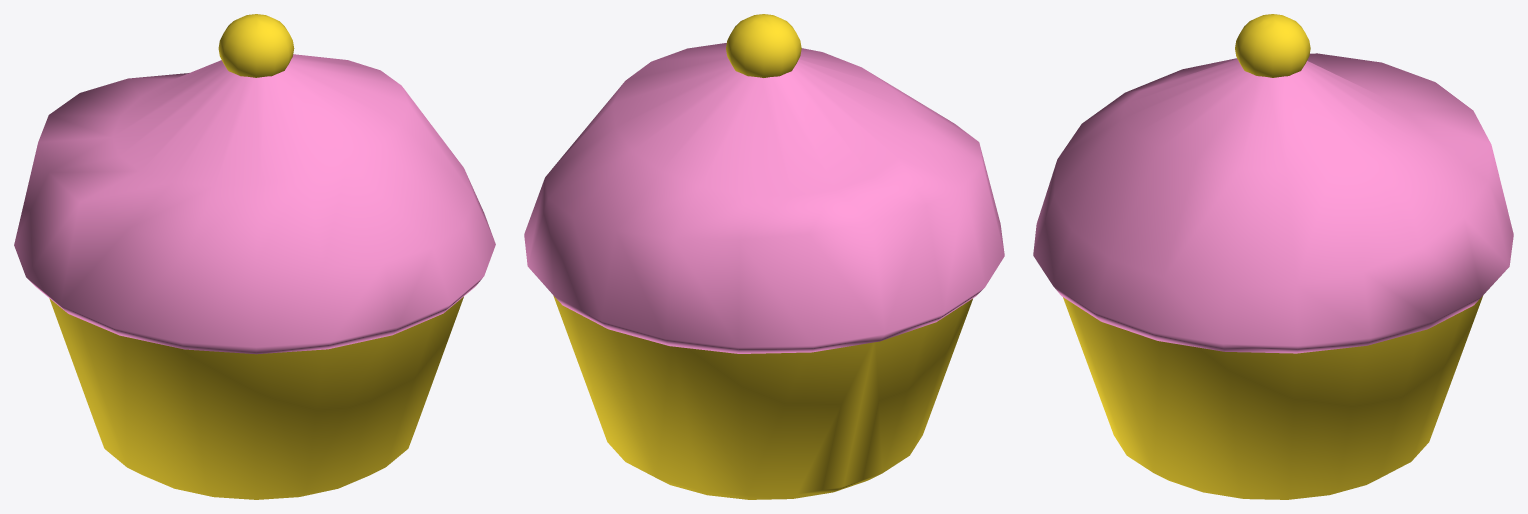
File: Toy229.fbx
3 renders of one model, left to right at view 1: azimuth 30°, elevation 25°; view 2: azimuth 150°, elevation 25°; view 3: azimuth 270°, elevation 25°, orthographic.
Visible parts, largest first — view 1: Toy229; view 2: Toy229; view 3: Toy229.
Part boxes in pixels (left/top/right/bottom): Toy229: left=14, top=14, right=495, bottom=499; Toy229: left=524, top=14, right=1004, bottom=499; Toy229: left=1033, top=14, right=1513, bottom=499.
Bounding box in the file's own units: 0.1487 × 0.1447 × 0.1489.
